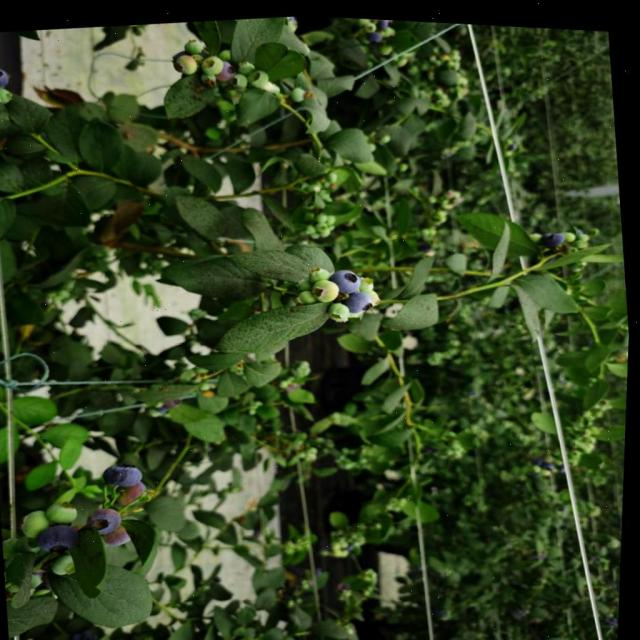RipeBlueBerry: (331, 258, 368, 289), (346, 284, 378, 312)
Semi-RipeBlueBerry: (105, 456, 144, 486), (124, 481, 151, 502)
UnripeBlueBerry: (304, 271, 340, 299), (103, 524, 138, 550), (198, 51, 222, 71)
